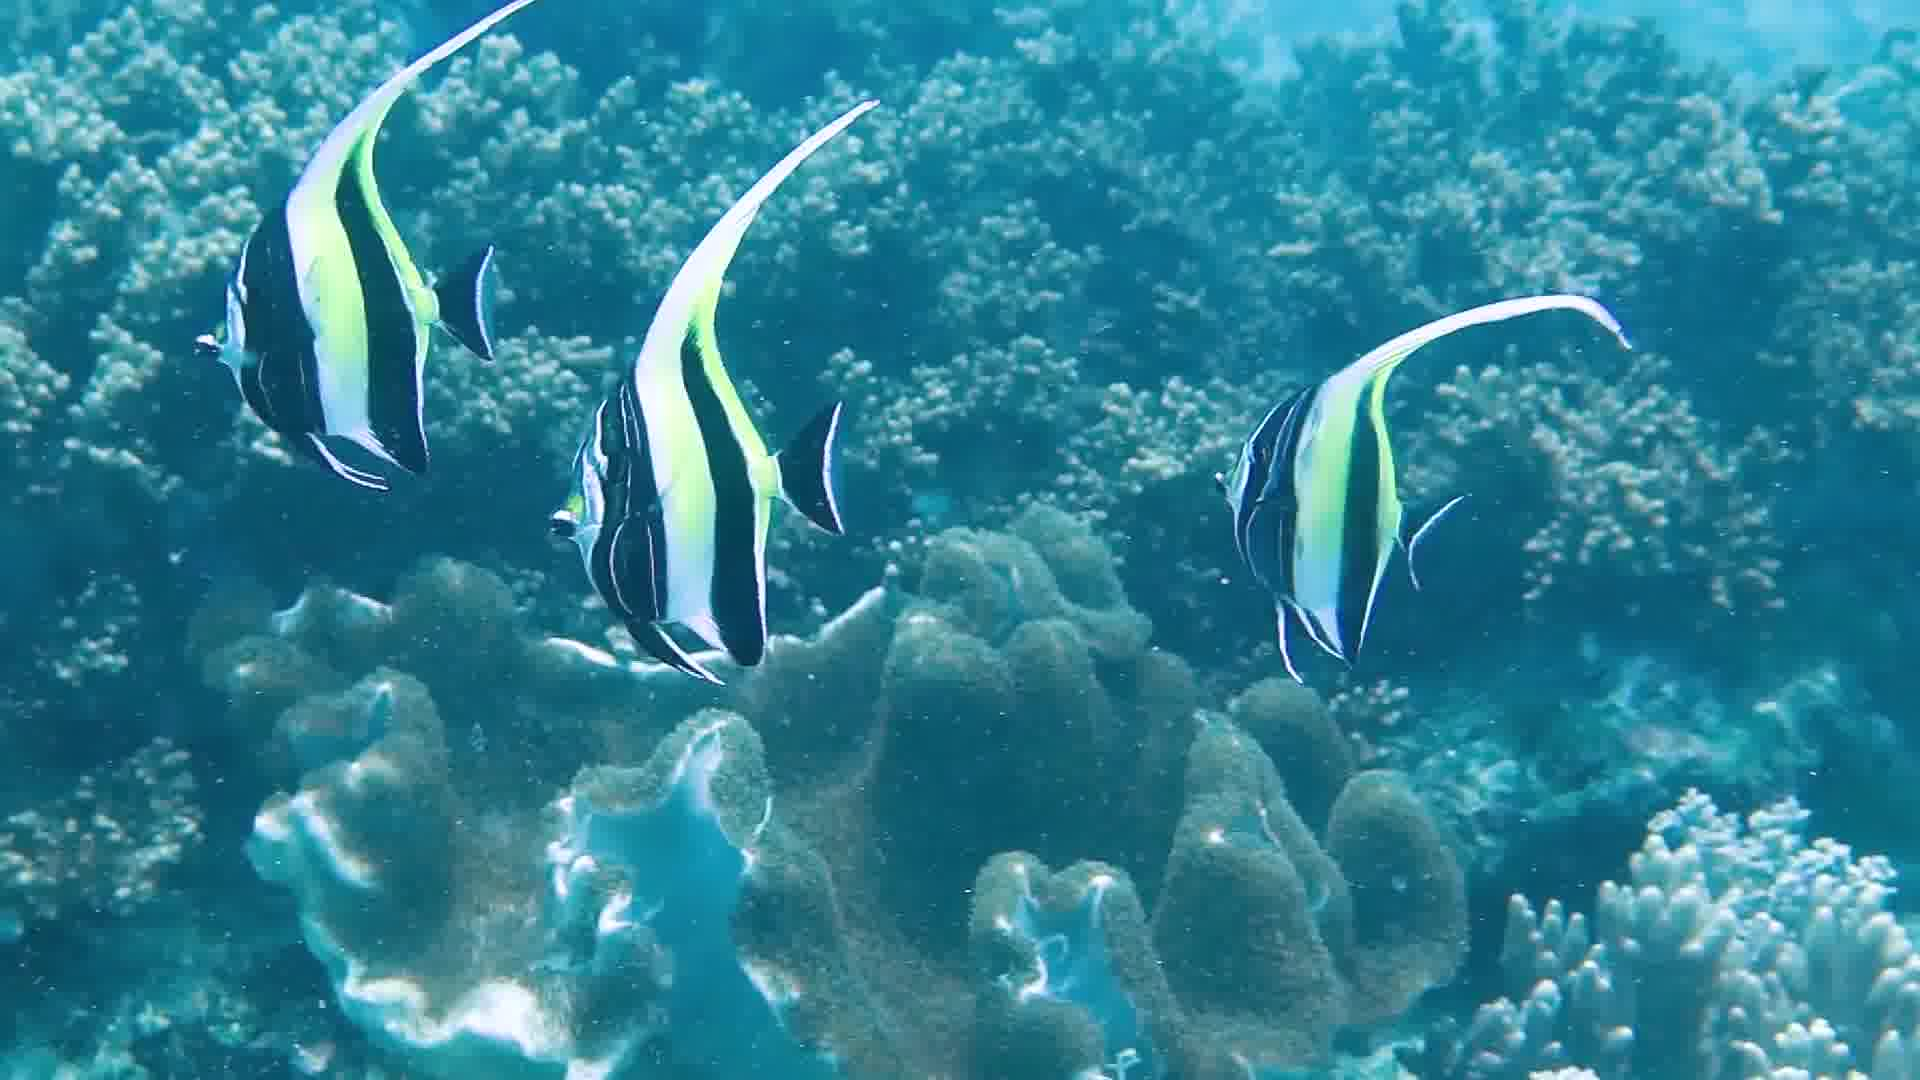Zanclus cornutus: (545, 233, 853, 671), (1193, 349, 1491, 711), (219, 137, 506, 473)
